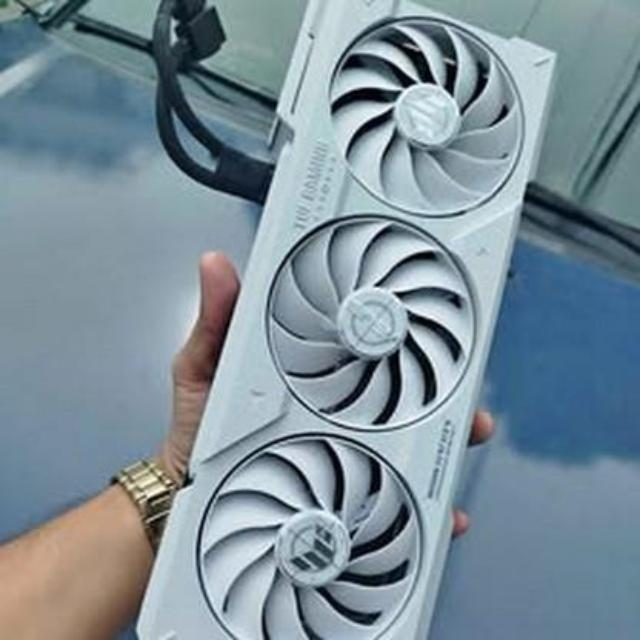GPU: (138, 3, 560, 640)
